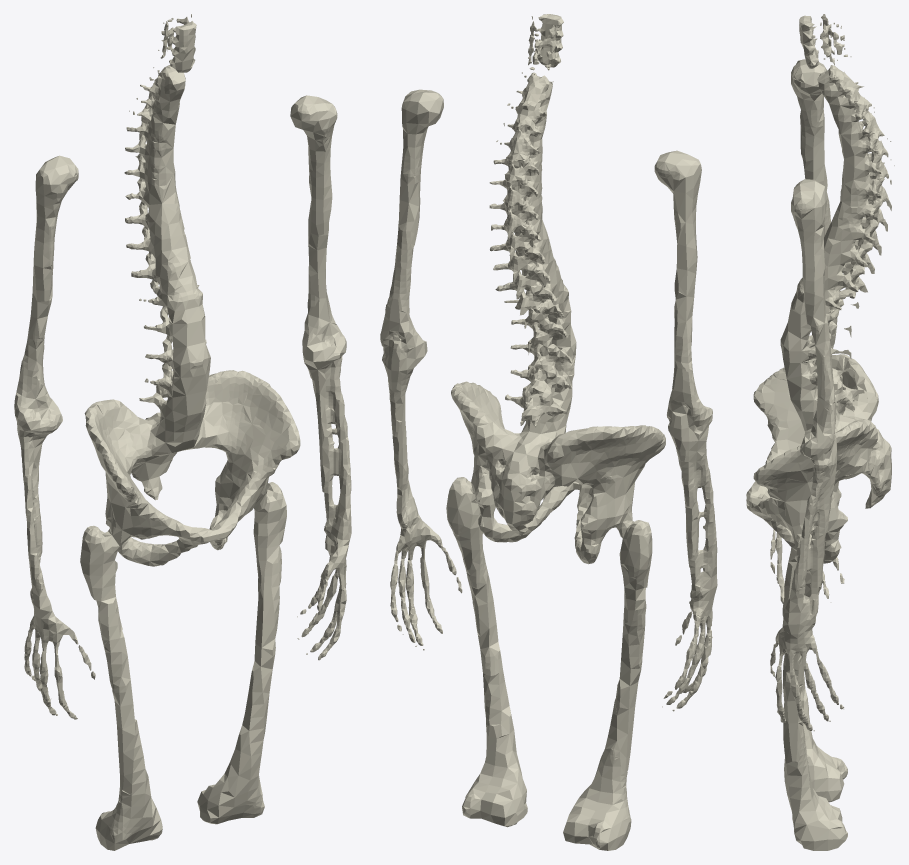
Rendered from skelett_update_i.gltf.
3 views of the same model, side by side, from view 1: azimuth 30°, elevation 25°; view 2: azimuth 150°, elevation 25°; view 3: azimuth 270°, elevation 25° (orthographic).
Visible parts, largest first — view 1: Object_5; view 2: Object_5; view 3: Object_5.
Boxes of the visible parts, x1,y1,x2,y2 form: Object_5: (14, 14, 351, 850); Object_5: (380, 14, 717, 850); Object_5: (746, 14, 894, 850).
Size of the model in its own units: 1.87 by 4.46 by 0.7482.
